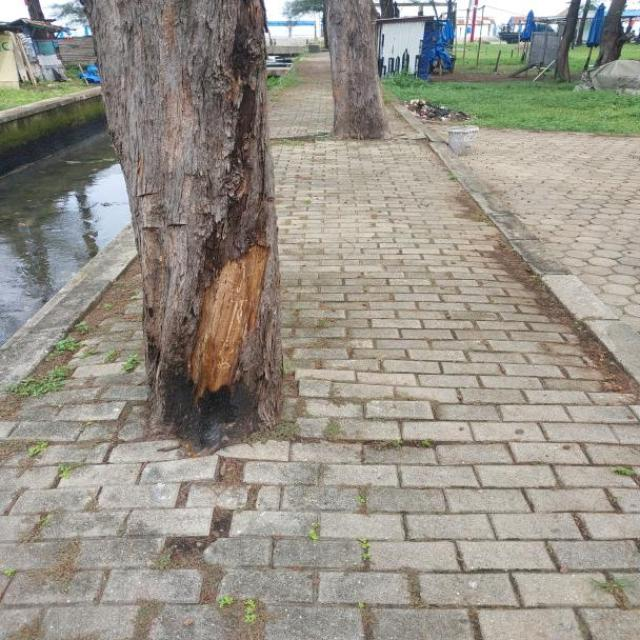tree ahead at: (70, 0, 300, 439), (322, 0, 392, 138)
